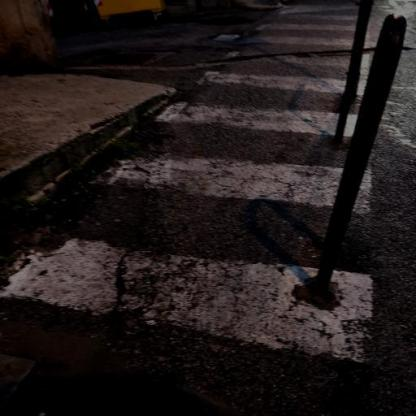crosswalk: (1, 154, 383, 380), (142, 63, 415, 142)
